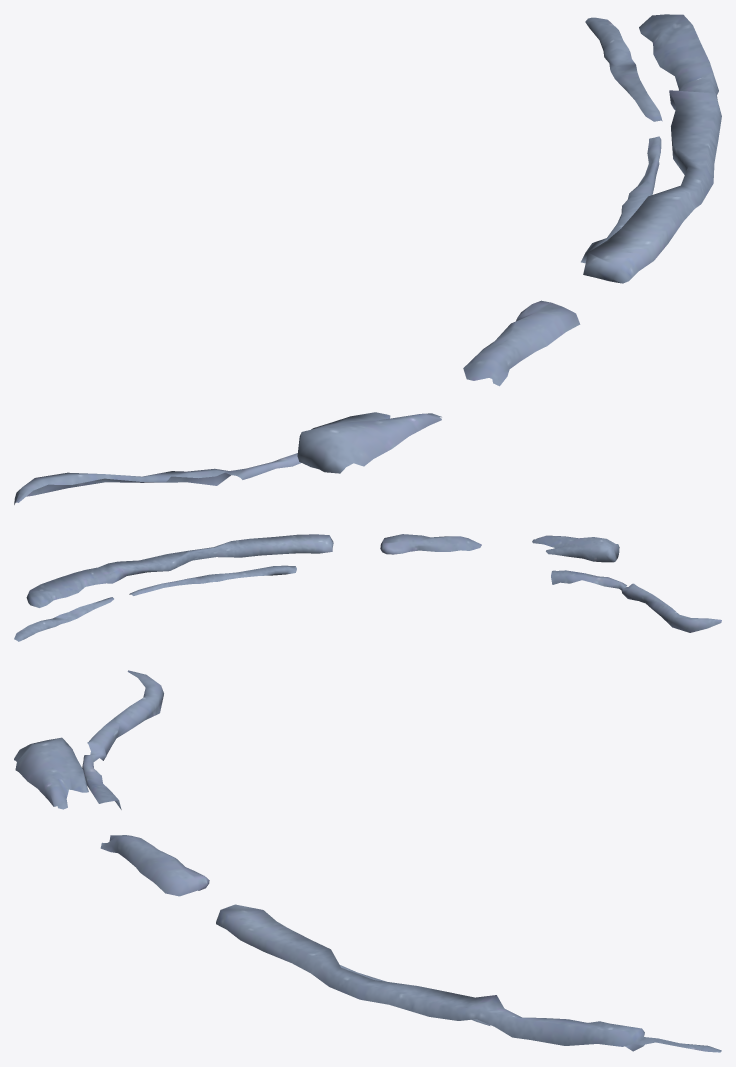
Rendered from pref_sm_beach_winter_snow08_lv1.fbx.
The picture shows the model from 3 angles, top to bottom: view 1: azimuth 30°, elevation 25°; view 2: azimuth 150°, elevation 25°; view 3: azimuth 270°, elevation 25°; orthographic projection. The views are drawn at different scales.
Parts seen in each view (by area): view 1: pref_sm_beach_winter_snow08_lv1; view 2: pref_sm_beach_winter_snow08_lv1; view 3: pref_sm_beach_winter_snow08_lv1.
Boxes of the visible parts, bbox=[...] form: pref_sm_beach_winter_snow08_lv1: bbox=[14, 14, 721, 504]; pref_sm_beach_winter_snow08_lv1: bbox=[14, 534, 721, 641]; pref_sm_beach_winter_snow08_lv1: bbox=[14, 670, 721, 1052].
Size of the model in its own units: 49.01 by 2.92 by 37.15.
